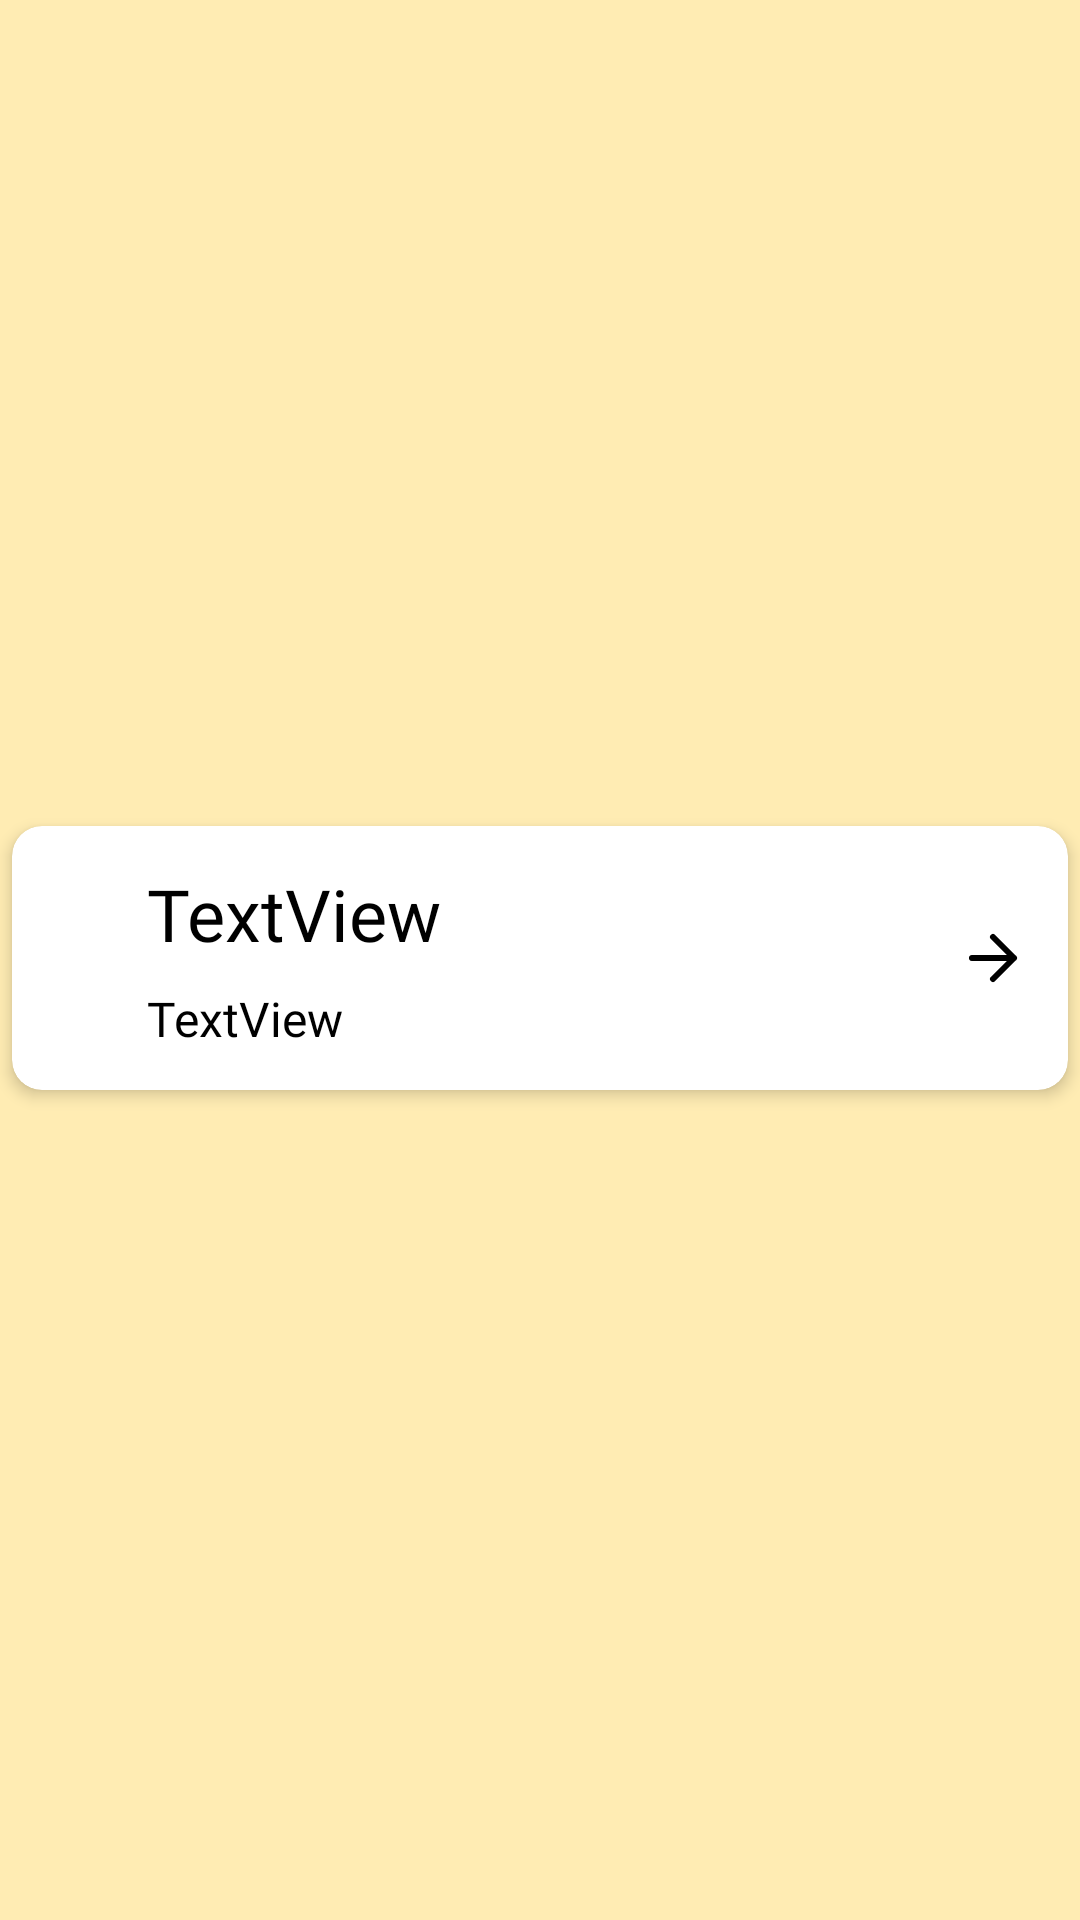

Icons on this 1080*1920 Android screen, each with the point to tap as [x,y]:
arrow right: [993,958]
